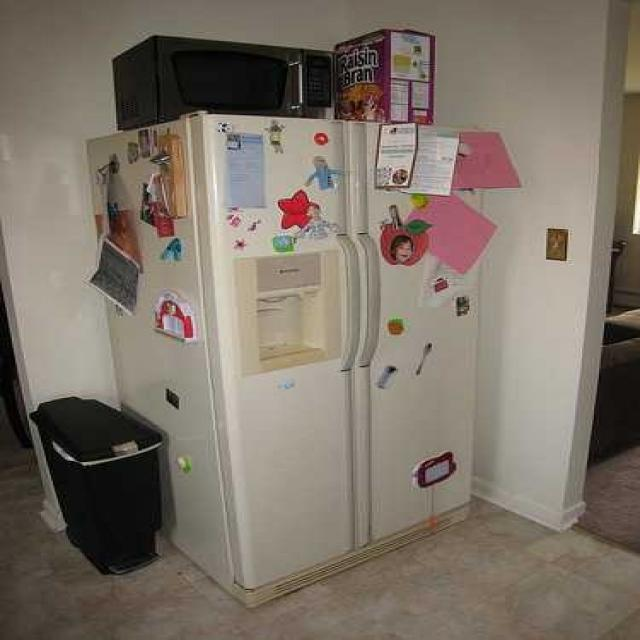refrigerator: (90, 119, 474, 566)
